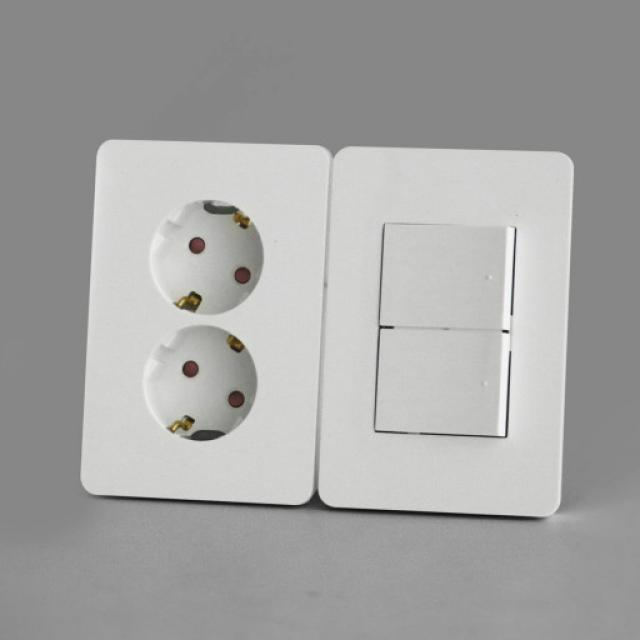typeb: (36, 106, 326, 532)
